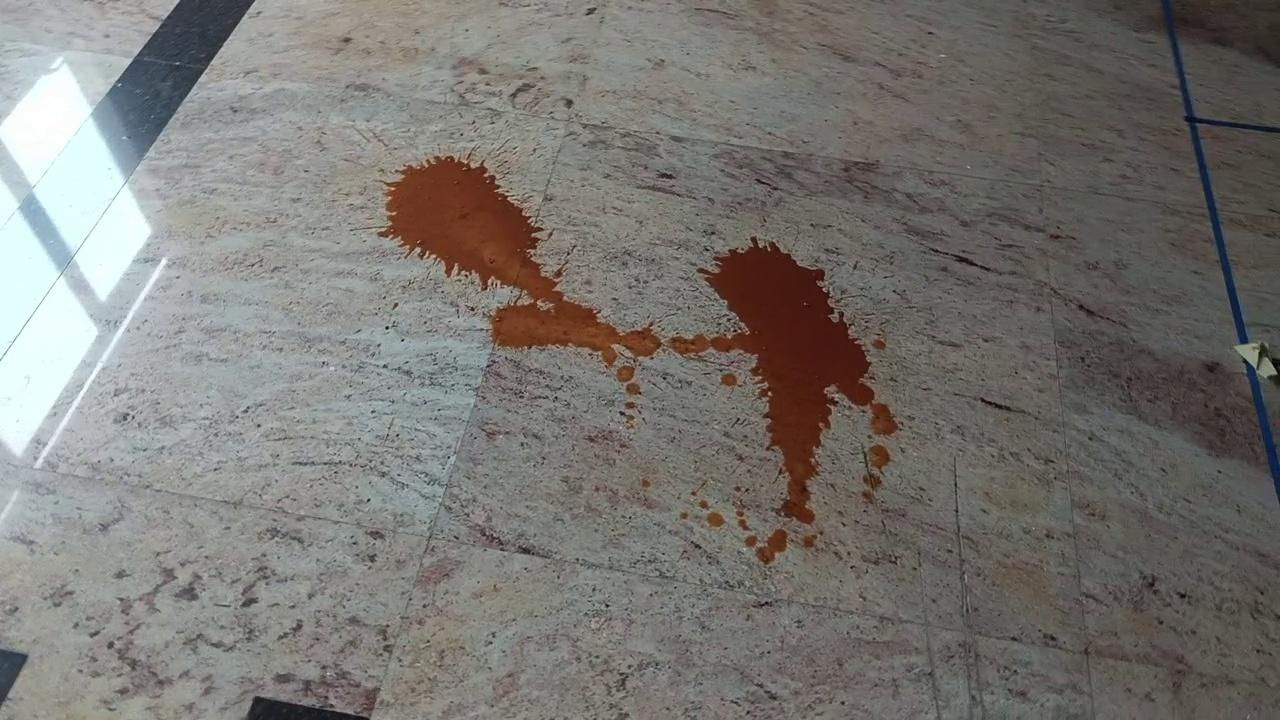dirty_floor: (383, 154, 898, 573)
